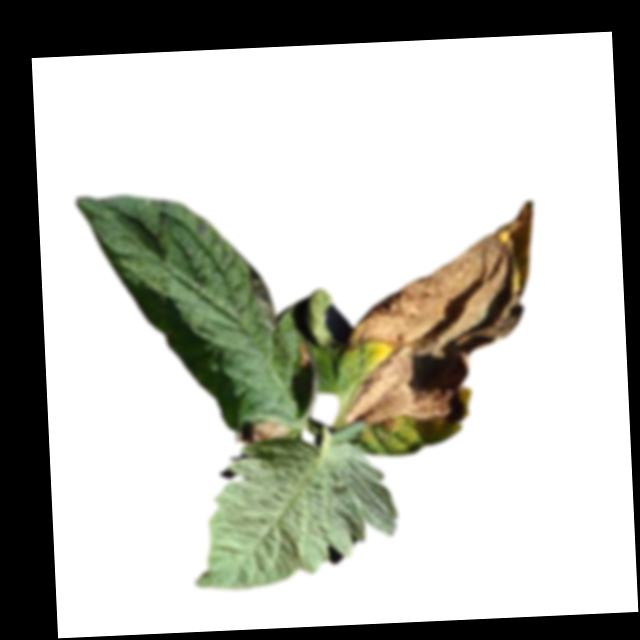Late_blight: (325, 198, 543, 436), (246, 261, 278, 334), (232, 416, 291, 447), (292, 339, 314, 369)
healthy: (186, 432, 400, 591)
